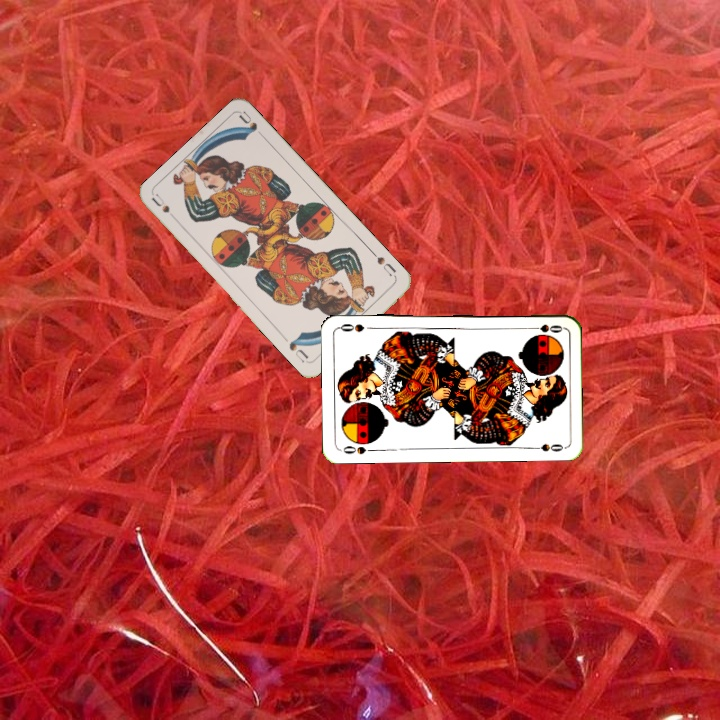SO: (524, 320, 565, 335), (337, 442, 378, 457)
SU: (368, 248, 399, 279), (148, 190, 172, 216)
